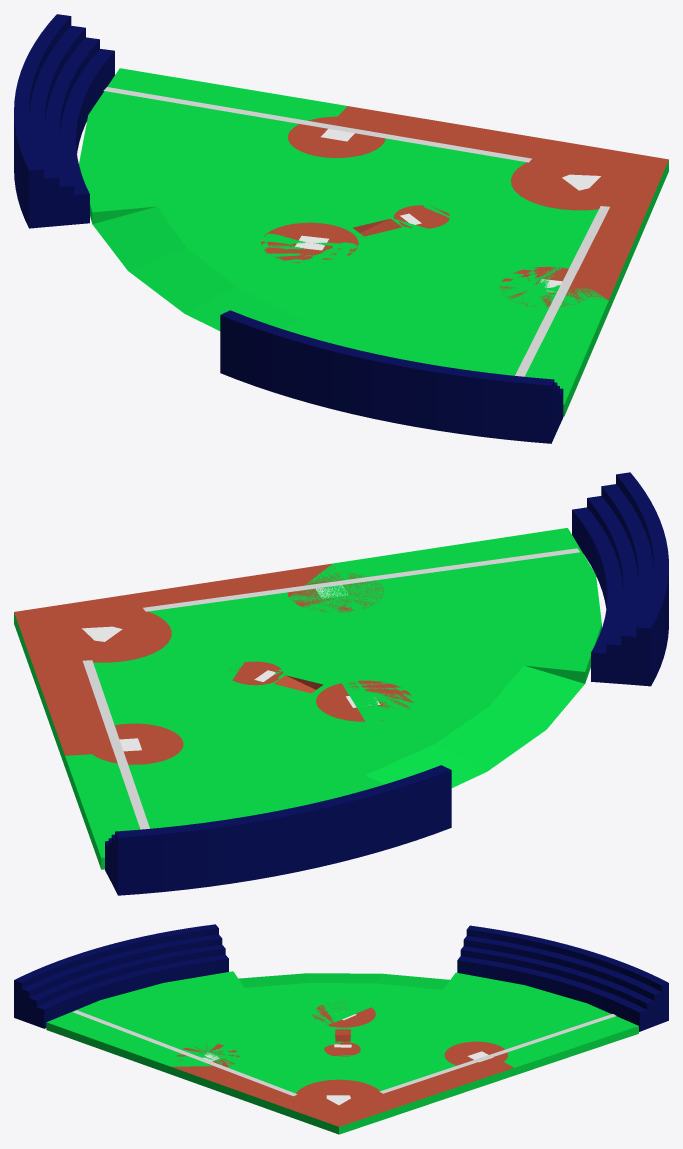
File: yakyuuban.fbx
3 views of the same model, one above another, from view 1: azimuth 30°, elevation 25°; view 2: azimuth 150°, elevation 25°; view 3: azimuth 270°, elevation 25° (orthographic). The views are drawn at different scales.
Visible parts, largest first — view 1: 盤, 観客席左, 観客席右, ライン右, ライン左; view 2: 盤, 観客席右, 観客席左, ライン左, ライン右; view 3: 盤, 観客席左, 観客席右, ライン左, ライン右.
Part boxes in pixels (<box>): 盤: <box>79,68,668,416</box>; 観客席左: <box>220,310,563,443</box>; 観客席右: <box>14,14,114,228</box>; ライン右: <box>103,87,531,162</box>; ライン左: <box>515,206,609,376</box>; 盤: <box>14,528,601,869</box>; 観客席右: <box>105,765,451,895</box>; 観客席左: <box>572,472,668,686</box>; ライン左: <box>143,548,579,611</box>; ライン右: <box>82,660,149,829</box>; 盤: <box>46,971,638,1134</box>; 観客席左: <box>14,924,228,1028</box>; 観客席右: <box>457,925,668,1031</box>; ライン左: <box>73,1010,297,1096</box>; ライン右: <box>379,1014,616,1093</box>.
Size of the model in its own units: 660 by 68.17 by 1060.
